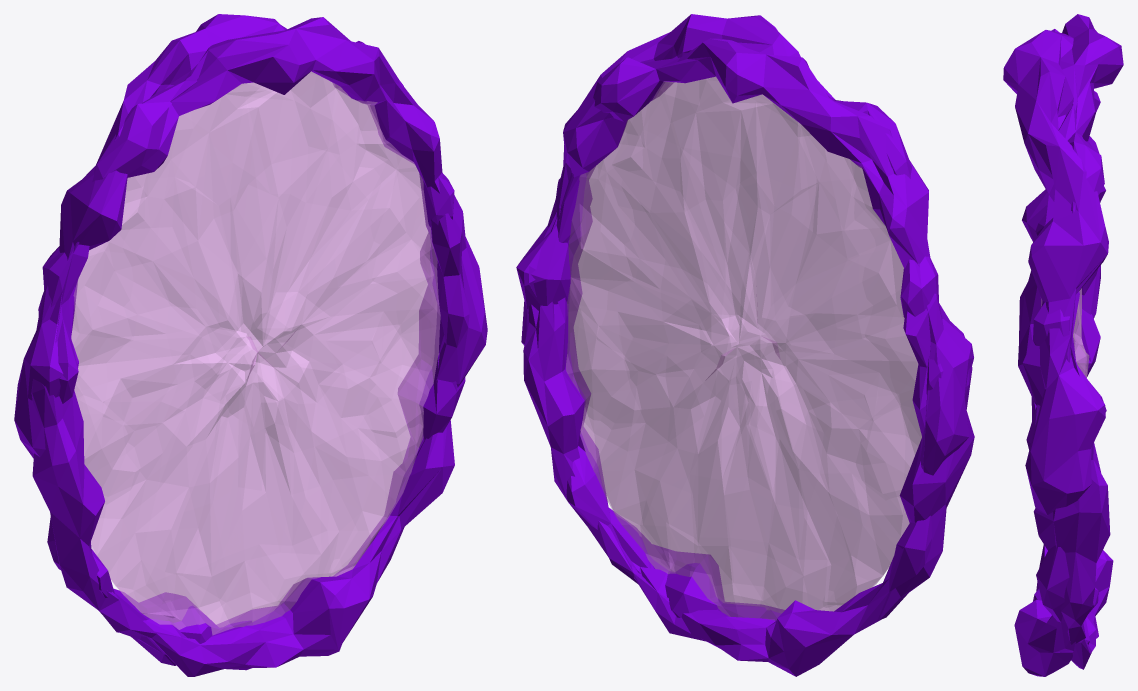
The model's file is portal.fbx.
3 views of the same model, side by side, from view 1: azimuth 30°, elevation 25°; view 2: azimuth 150°, elevation 25°; view 3: azimuth 270°, elevation 25° (orthographic). The views are drawn at different scales.
Visible parts, largest first — view 1: PortalInsideFlipped, PortalInside, PortalFrameFlipped, PortalFrame; view 2: PortalInside, PortalInsideFlipped, PortalFrame, PortalFrameFlipped; view 3: PortalFrameFlipped, PortalFrame, PortalInside.
Part boxes in pixels (x1,y1,x2,y2): PortalInsideFlipped: (71, 71, 436, 635); PortalInside: (71, 72, 440, 627); PortalFrameFlipped: (31, 17, 487, 676); PortalFrame: (14, 14, 465, 665); PortalInside: (569, 76, 921, 620); PortalInsideFlipped: (566, 77, 921, 612); PortalFrame: (523, 38, 973, 676); PortalFrameFlipped: (516, 14, 974, 621); PortalFrameFlipped: (1003, 29, 1108, 676); PortalFrame: (1033, 14, 1123, 669); PortalInside: (1073, 288, 1089, 377).
Size of the model in its own units: 3.15 by 4.26 by 0.7627.
